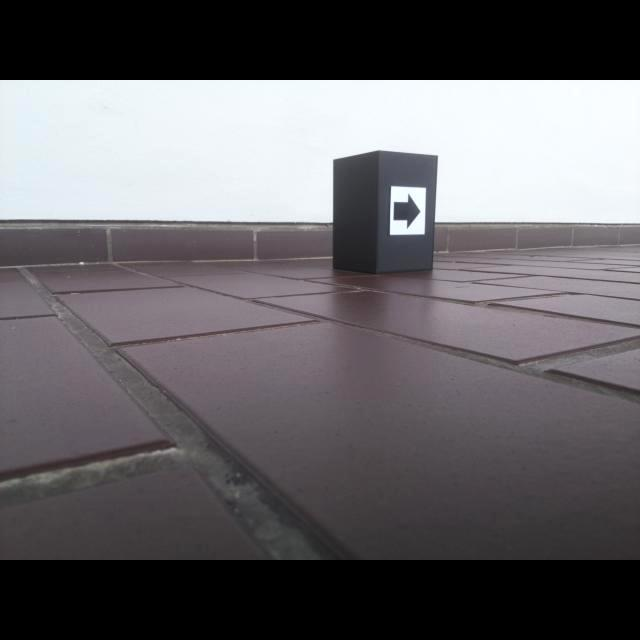RIGHT: (392, 191, 421, 231)
